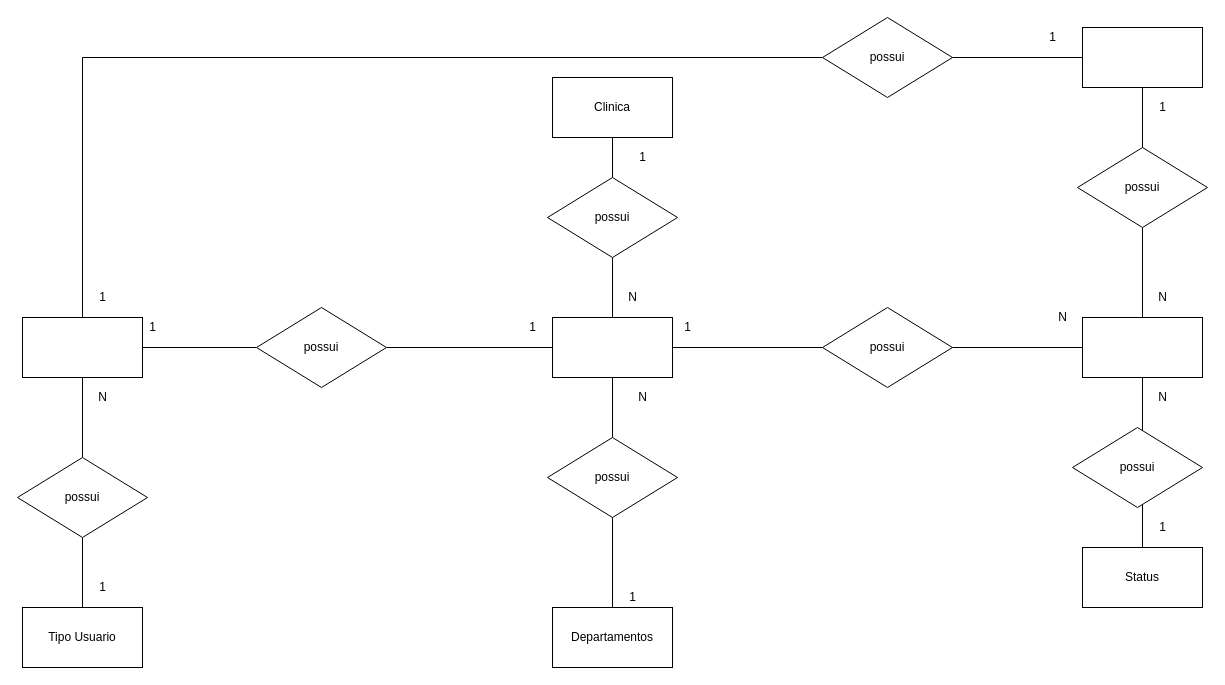
Some shapes in this 1225 by 685 pixel diagram are drawn without their labels. The shapes that lost their labels are listed below. From the top down, each one's centre as x and y in pixels, then its label:
the point at 1142,57: Paciente
the point at 82,347: Usuario
the point at 612,347: Medico
the point at 1142,347: Atendimento
